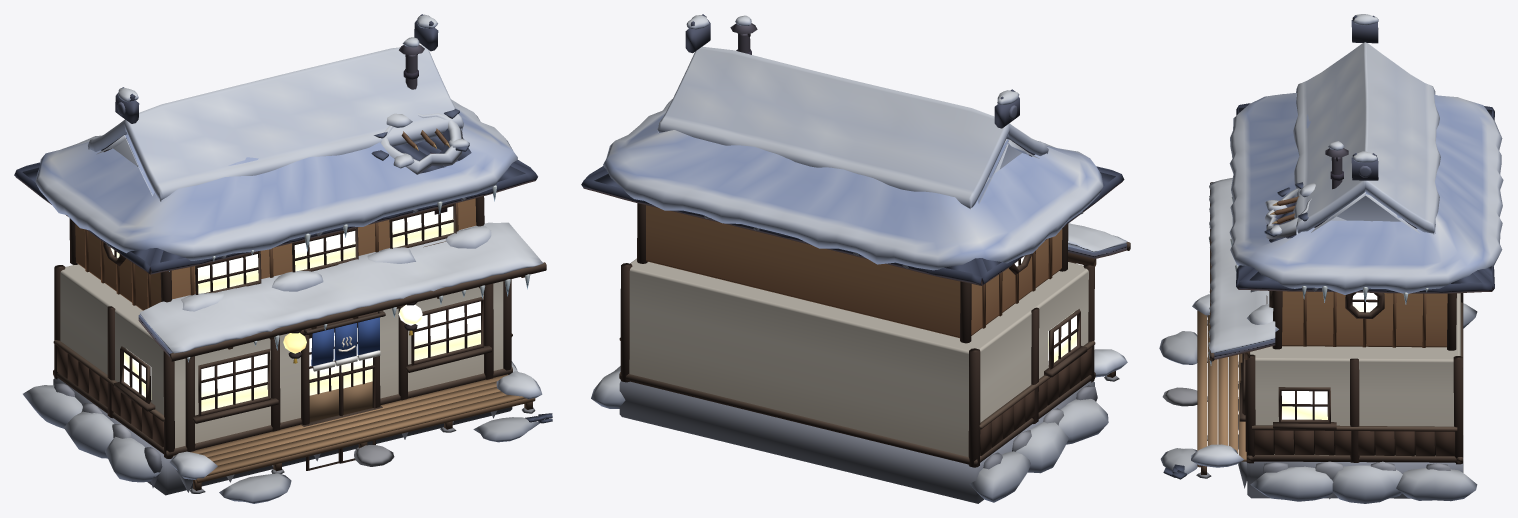
Rendered from rg-onsen-inn.glb.
3 views of the same model, side by side, from view 1: azimuth 30°, elevation 25°; view 2: azimuth 150°, elevation 25°; view 3: azimuth 270°, elevation 25° (orthographic). The views are drawn at different scales.
Visible parts, largest first — view 1: body, glow, cloth; view 2: body, glow; view 3: body, glow.
Part boxes in pixels (x1,y1,x2,y2): body: (14,14,552,503); glow: (110,206,480,411); cloth: (311,317,380,371); body: (581,14,1130,503); glow: (1014,256,1076,364); body: (1159,14,1503,503); glow: (1281,292,1377,419).
Size of the model in its own units: 6.73 by 5.7 by 5.2.
